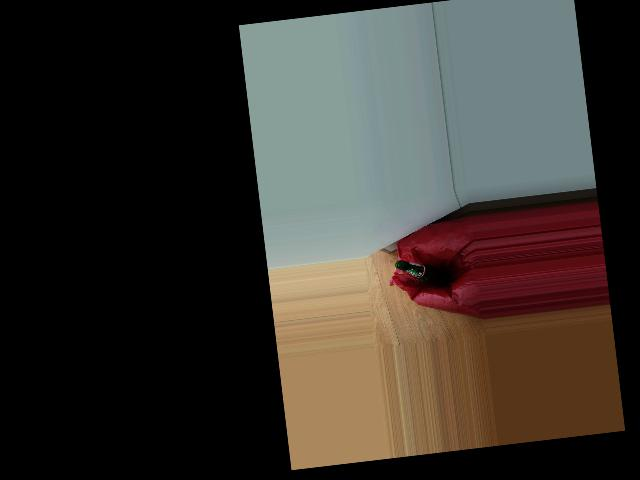beer: (394, 255, 450, 291)
